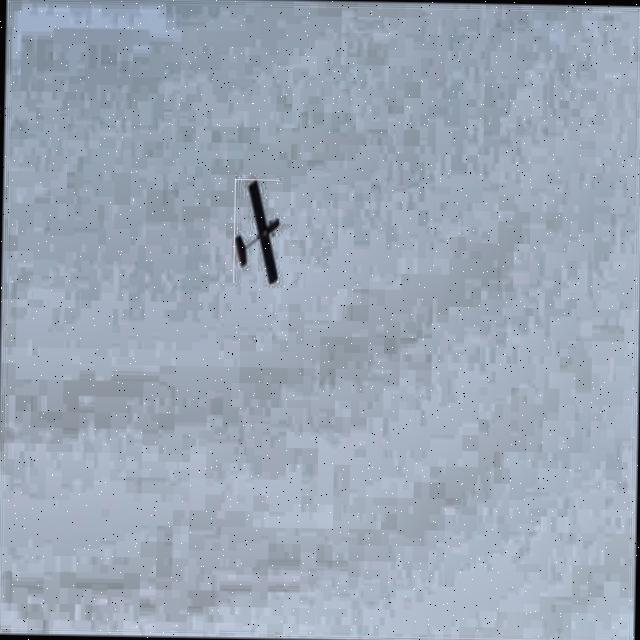iha: (233, 208, 284, 252)
